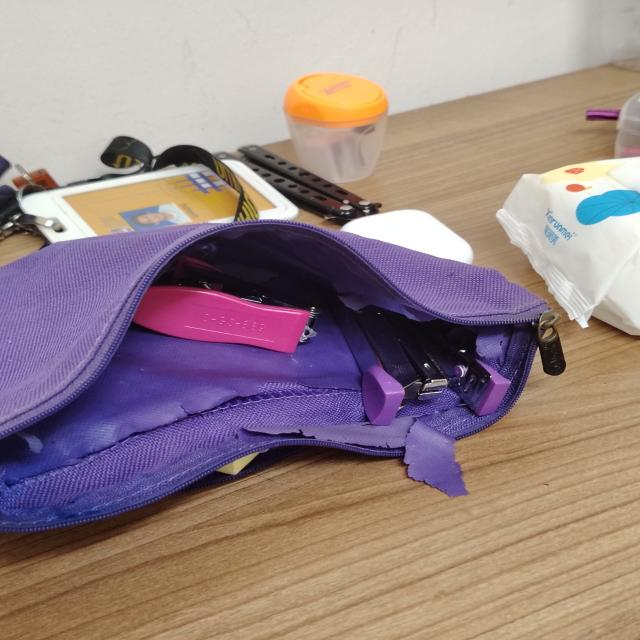sharpener: (284, 73, 388, 182)
stapler: (331, 298, 511, 426), (133, 256, 320, 353)
